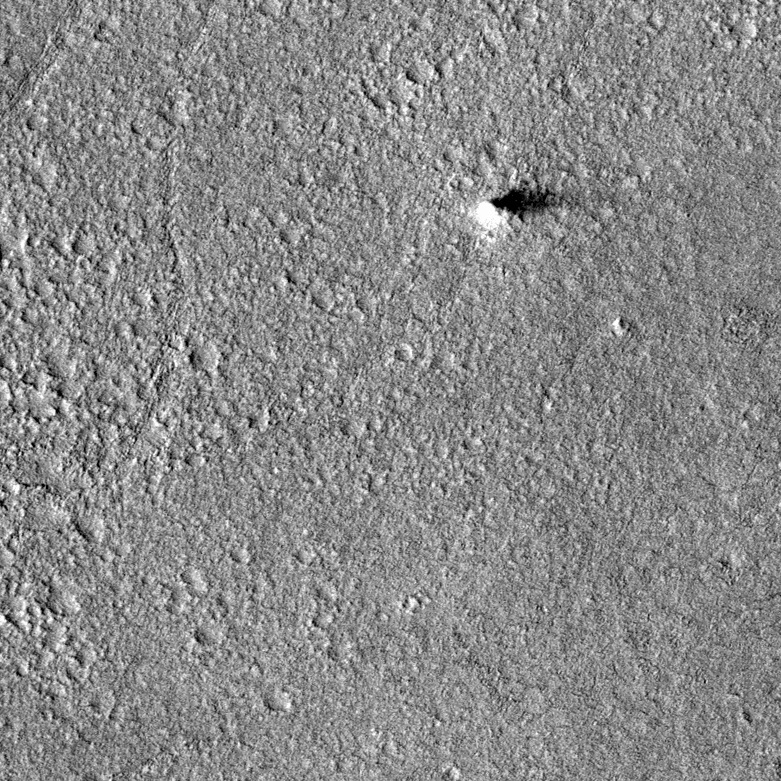dust_devil: (472, 184, 574, 232)
